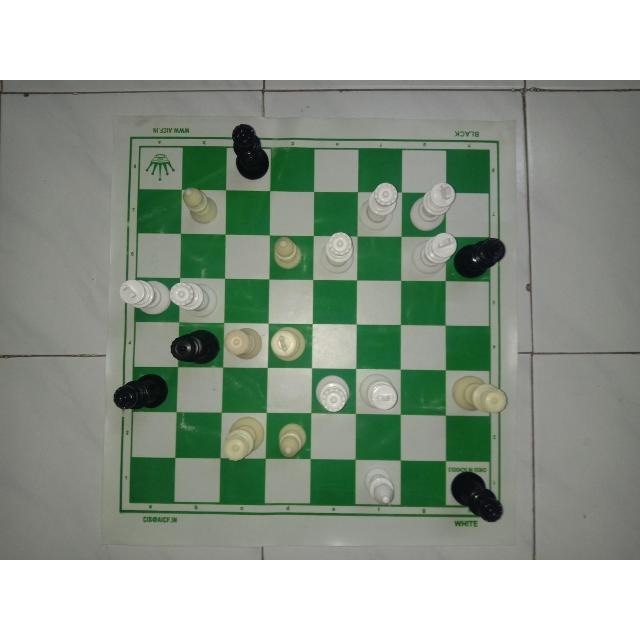black-king: (454, 234, 512, 282)
black-queen: (452, 463, 508, 524), (110, 371, 178, 415), (227, 121, 271, 181), (167, 328, 220, 369)
white-bishop: (357, 462, 401, 511), (177, 181, 222, 225), (268, 230, 306, 279), (274, 416, 314, 460)
white-king: (116, 279, 170, 321), (409, 182, 457, 229), (412, 230, 460, 276), (263, 324, 311, 368), (360, 367, 402, 417)
white-queen: (449, 374, 511, 416), (221, 414, 269, 468), (360, 180, 404, 234), (219, 323, 270, 367), (312, 370, 356, 420), (168, 284, 222, 320), (322, 230, 356, 280)
